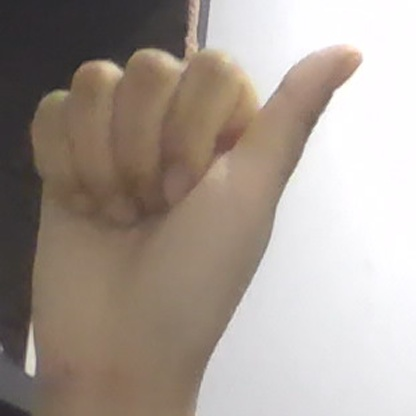A: (31, 45, 362, 388)
